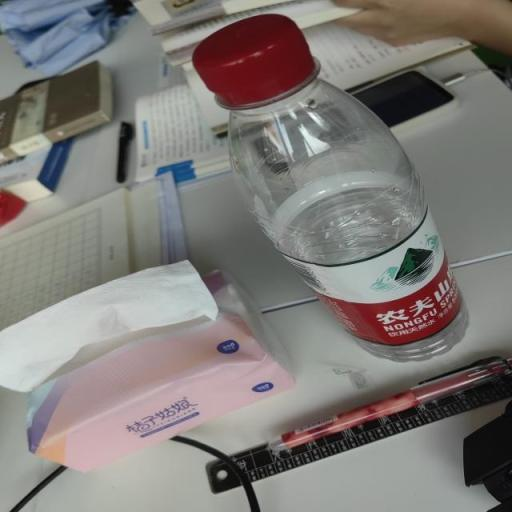plastic: (191, 14, 469, 364)
